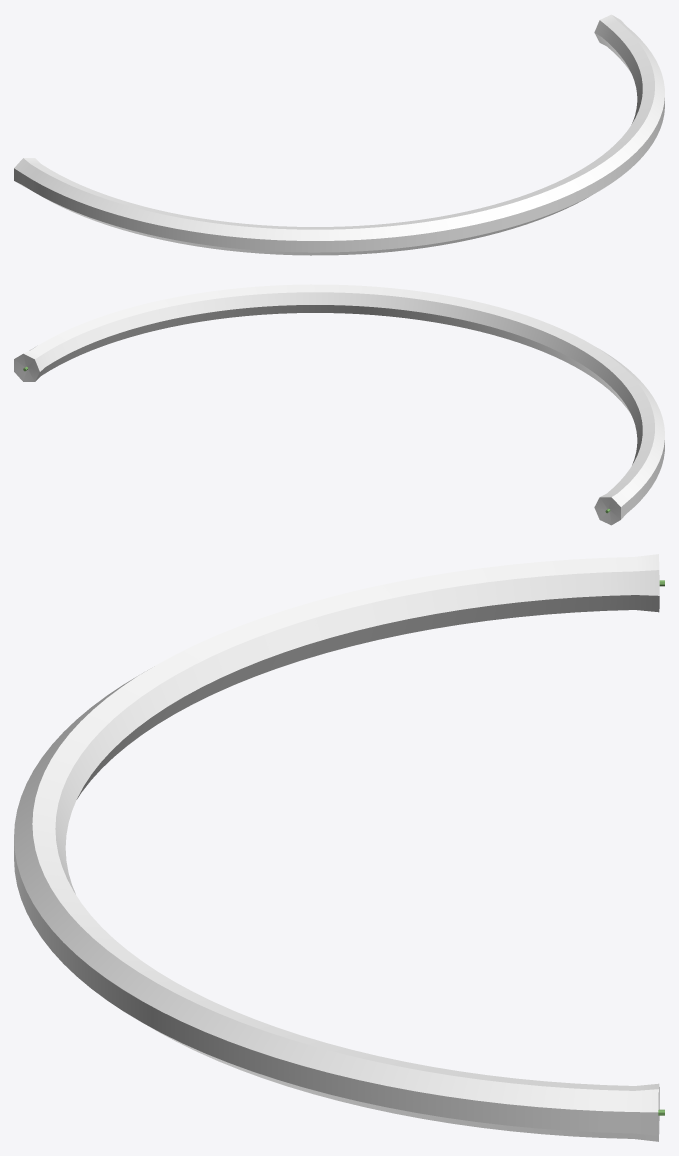
Rendered from gizmoRotateY.fbx.
3 renders of one model, top to bottom at view 1: azimuth 30°, elevation 25°; view 2: azimuth 150°, elevation 25°; view 3: azimuth 270°, elevation 25°, orthographic. The views are drawn at different scales.
Parts seen in each view (by area): view 1: gizmoRotateY; view 2: gizmoRotateY; view 3: gizmoRotateY.
Part boxes in pixels (x1=…): gizmoRotateY: x1=14, y1=14, x2=664, y2=255; gizmoRotateY: x1=14, y1=284, x2=664, y2=525; gizmoRotateY: x1=14, y1=554, x2=664, y2=1141.
Bounding box in the file's own units: 65.17 × 2.9 × 32.47.
1 material, 1 textured.
